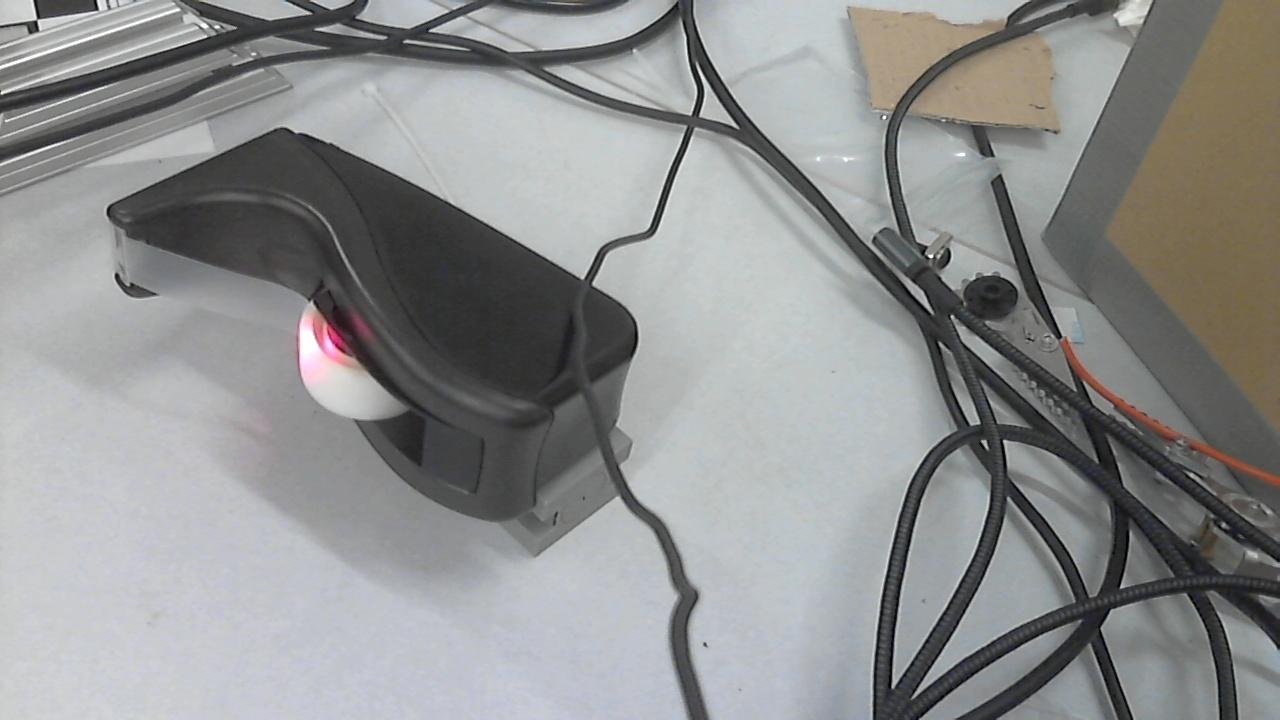Object desktop tape dispenser - Material plastic tape - Pdfname 8pMd29OsIRjD: (272, 316, 366, 396)
